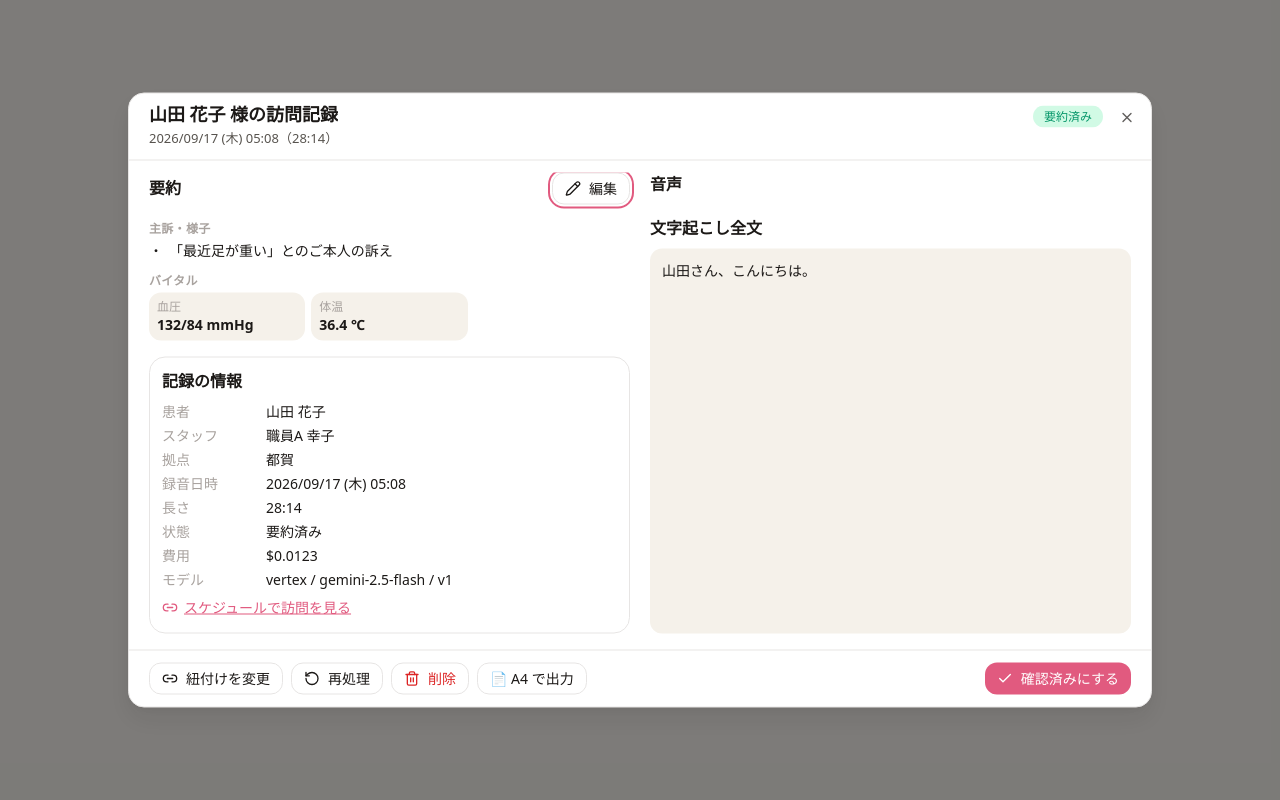
Scenario: RecordDetailDialog › 編集モードは「確認済みが外れる」と先に言う (M-3)
The image size is (1280, 800).
Click the button with test id "record-summary-edit".
click(591, 188)  # box [552,172,630,204]
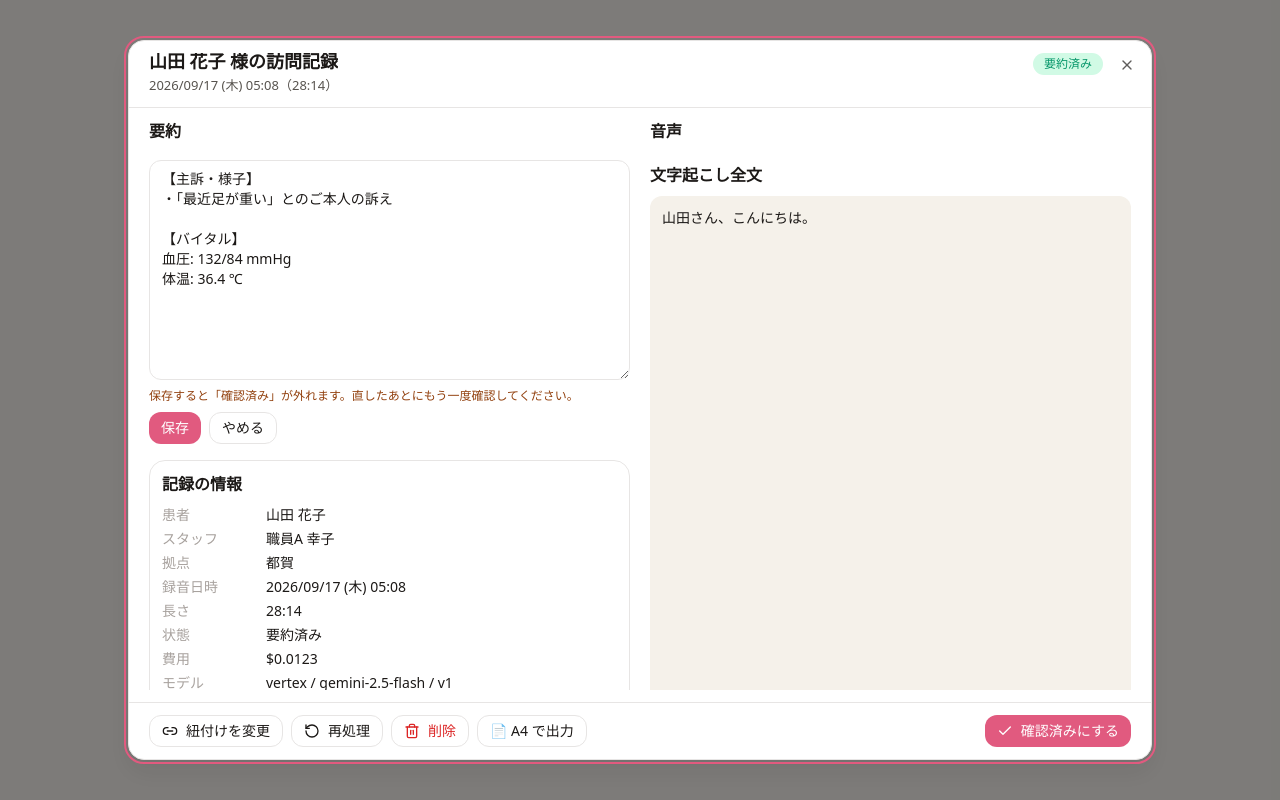
Result: the text with test id "record-summary-edit-note" shows "保存すると「確認済み」が外れます" at [149,387,579,404]
